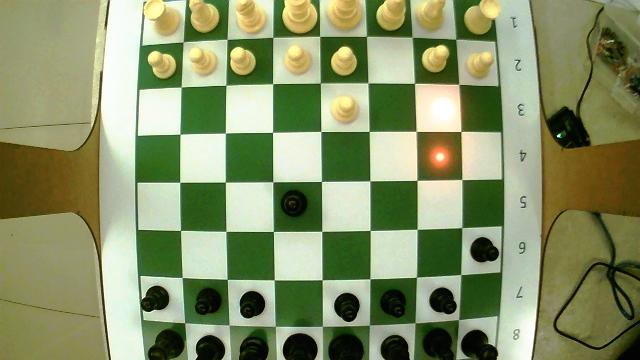piece: (144, 0, 180, 35), (281, 0, 315, 33), (326, 0, 362, 30), (150, 326, 183, 358), (328, 330, 363, 358), (236, 0, 266, 32), (286, 0, 316, 32), (423, 328, 453, 359), (463, 2, 492, 33), (462, 330, 495, 357), (415, 0, 444, 30), (375, 0, 403, 29), (188, 46, 216, 74), (192, 1, 219, 30), (283, 334, 316, 357), (195, 285, 223, 312), (148, 51, 175, 78), (240, 330, 266, 358), (228, 47, 255, 73), (280, 190, 307, 216), (380, 290, 405, 317), (331, 46, 355, 74), (335, 293, 359, 320), (286, 46, 310, 73), (471, 236, 496, 261), (380, 335, 407, 358), (423, 45, 447, 70), (240, 290, 263, 316), (466, 51, 491, 74), (196, 336, 223, 357), (143, 285, 167, 308), (430, 290, 455, 312), (332, 96, 355, 119), (381, 346, 388, 359), (390, 354, 408, 359)
